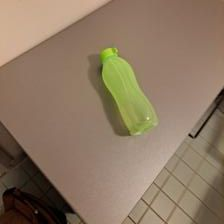bottle: (92, 45, 163, 136)
